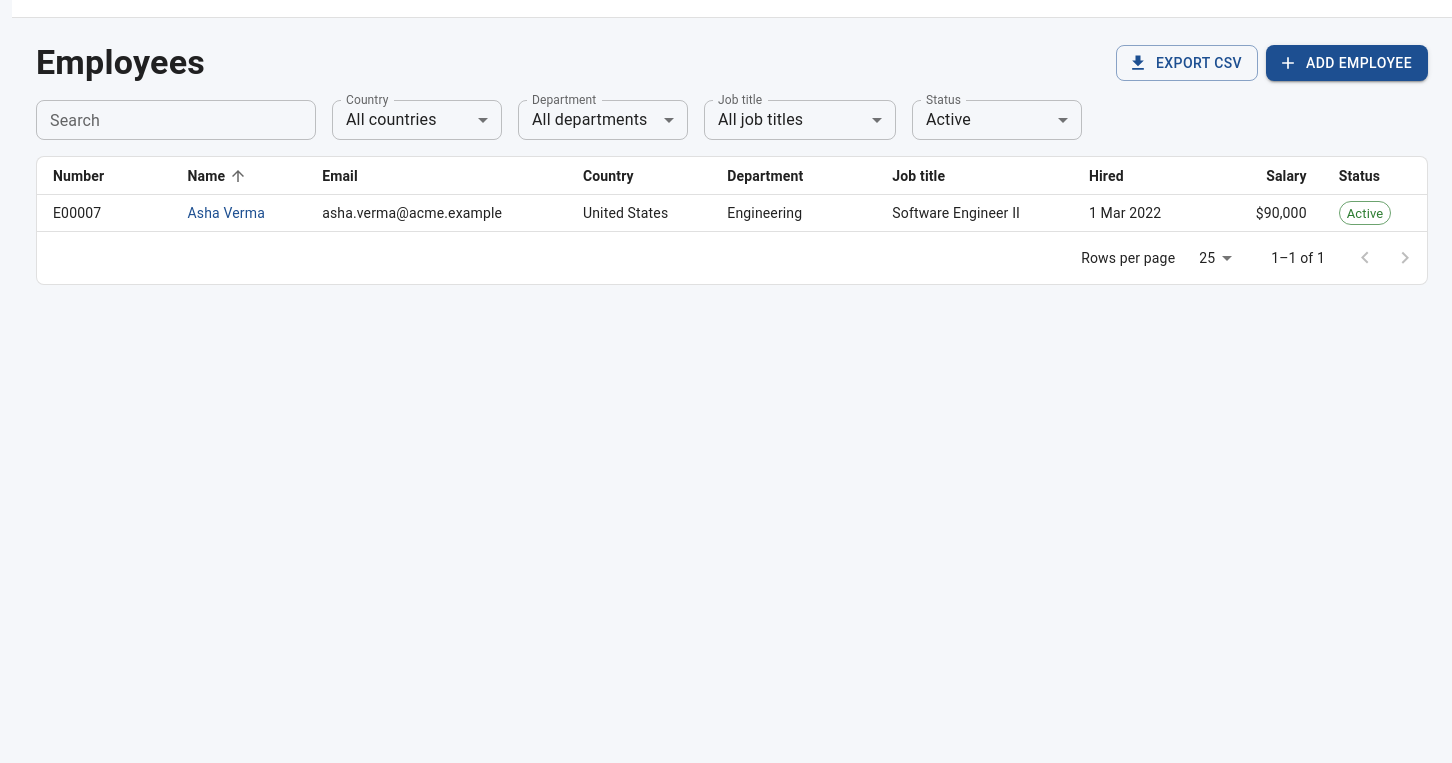
Test: the employee page › the profile › is reached by clicking a name in the directory
Click the link "Asha Verma" at (226, 213), box [188,205,265,221]
(page scrolled)
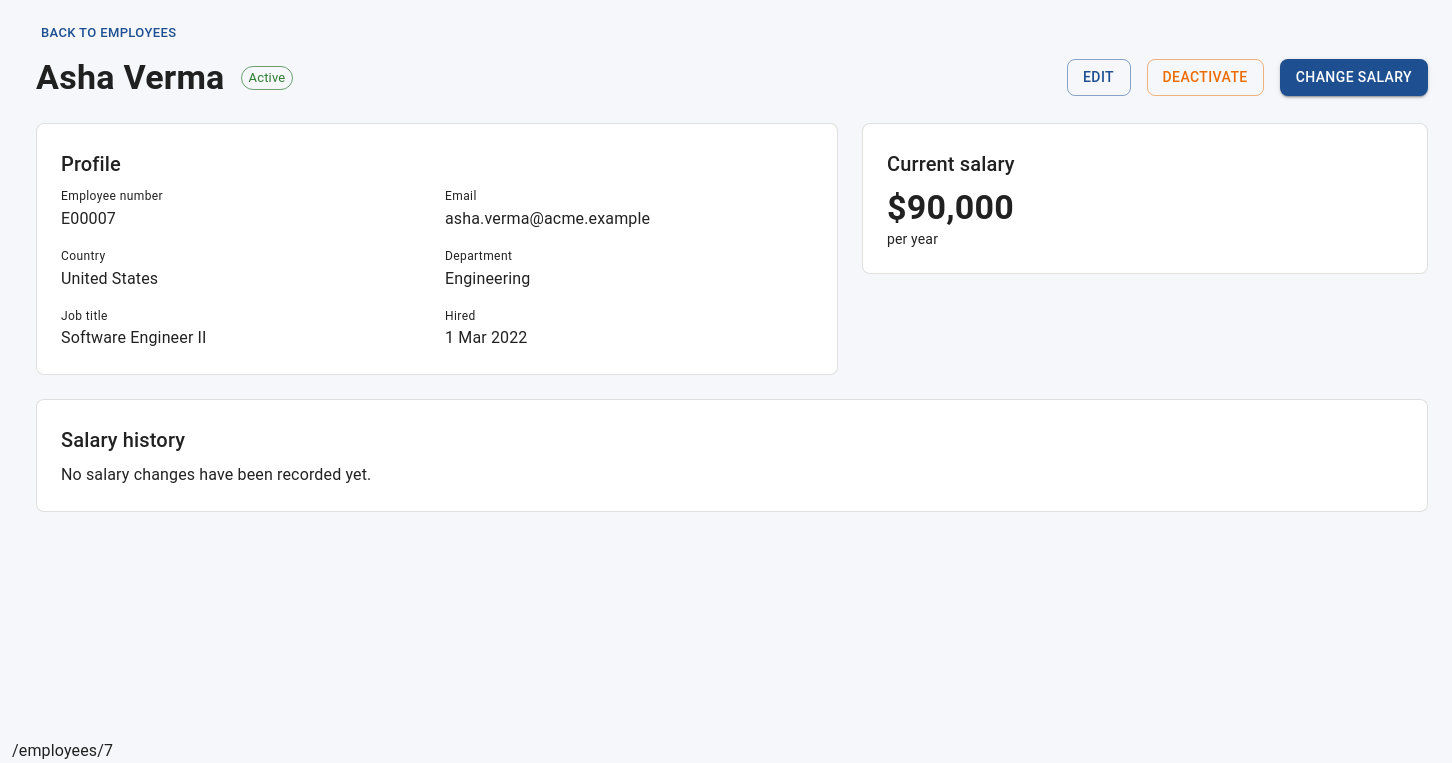
Check: the heading "Asha Verma" is shown, box [36,57,225,99]
Check: the text with test id "location" reads "/employees/7", box [12,741,113,760]
